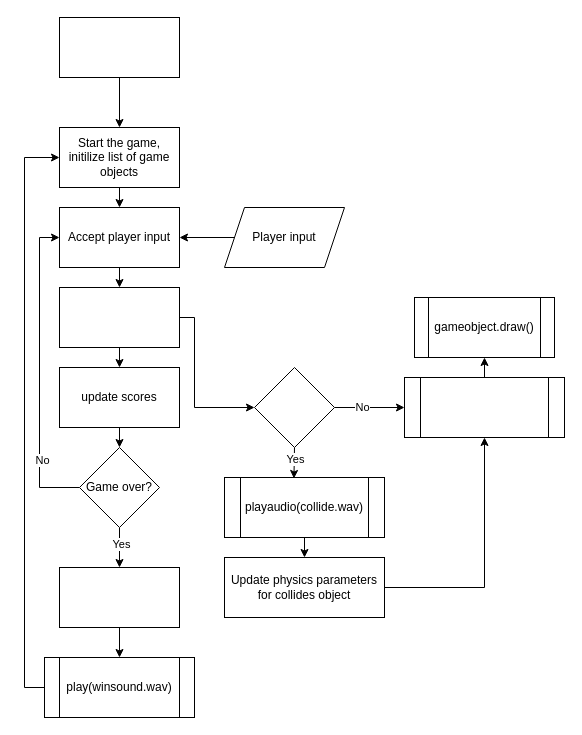
Some shapes in this 582 by 735 pixel diagram are drawn without their labels. The box of each missing label's shape, as (x1, y1, x2, y2) in pixels:
Collision?: (254, 366, 334, 448)
Display winner!: (58, 566, 180, 628)
gameobject.update(): (404, 376, 564, 438)
Iterate over game objects: (58, 286, 180, 348)
pong.h: (58, 16, 180, 78)
